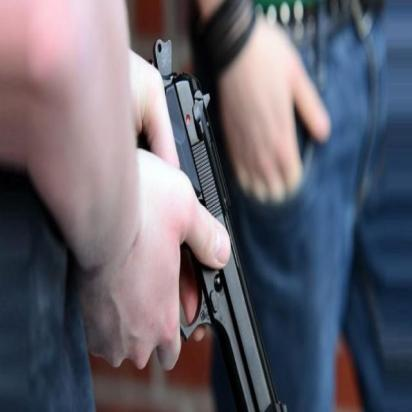Gun: (76, 22, 289, 412)
